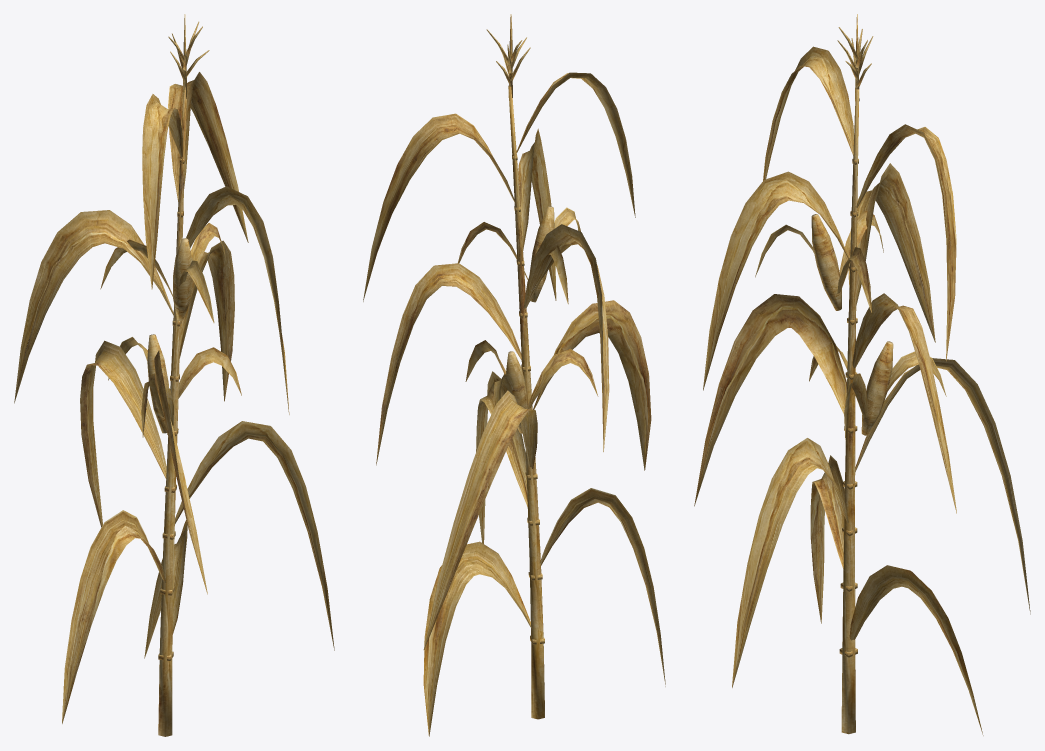
File: Corn_B_Near.fbx
3 renders of one model, left to right at view 1: azimuth 30°, elevation 25°; view 2: azimuth 150°, elevation 25°; view 3: azimuth 270°, elevation 25°, orthographic. The views are drawn at different scales.
Parts seen in each view (by area): view 1: Corn_B_Near; view 2: Corn_B_Near; view 3: Corn_B_Near.
Boxes of the visible parts, x1,y1,x2,y2 form: Corn_B_Near: [14, 14, 334, 736]; Corn_B_Near: [363, 14, 665, 736]; Corn_B_Near: [694, 14, 1030, 735].
Bounding box in the file's own units: 2.91 × 8 × 3.35.
1 material, 1 textured.
